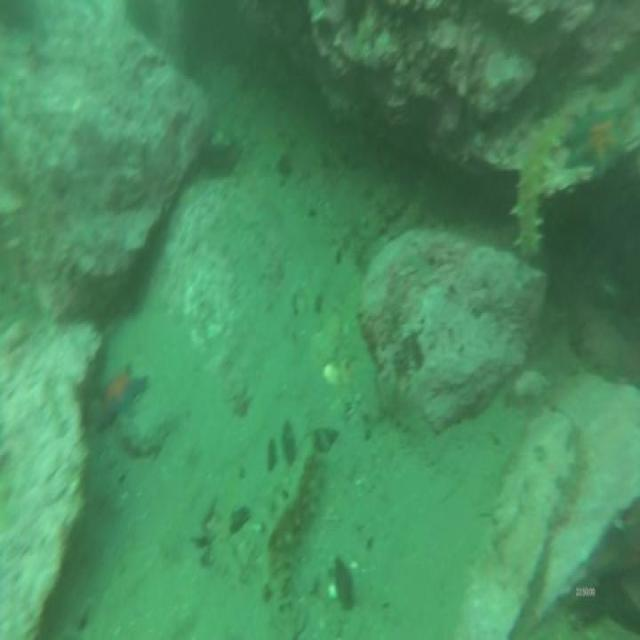echinus: (122, 0, 162, 44)
holothurian: (259, 437, 337, 640), (511, 106, 571, 262), (354, 177, 409, 242)
starfish: (563, 98, 632, 182), (89, 359, 149, 433)
